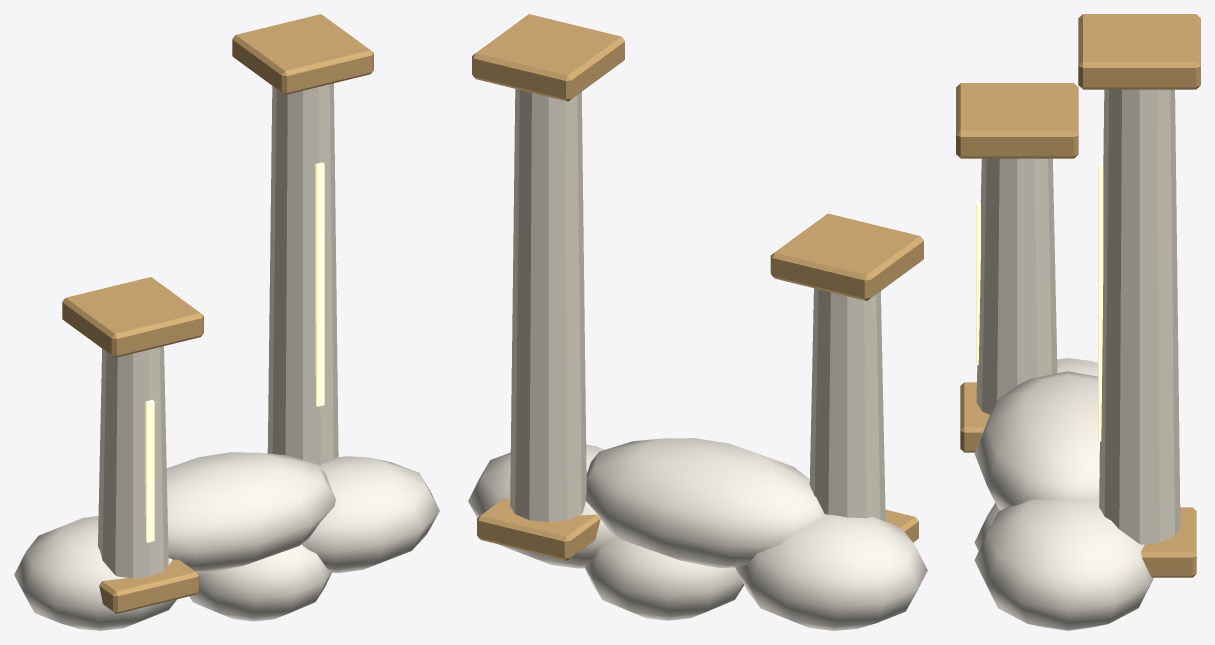
Rendered from div3_near_05_7m.glb.
3 views of the same model, side by side, from view 1: azimuth 30°, elevation 25°; view 2: azimuth 150°, elevation 25°; view 3: azimuth 270°, elevation 25° (orthographic). The views are drawn at different scales.
Parts seen in each view (by area): view 1: div3_near_05_7m__cloud-cream, div3_near_05_7m__porcelain-ivory, div3_near_05_7m__satin-honey-brass, div3_near_05_7m__warm-luminous; view 2: div3_near_05_7m__cloud-cream, div3_near_05_7m__porcelain-ivory, div3_near_05_7m__satin-honey-brass; view 3: div3_near_05_7m__porcelain-ivory, div3_near_05_7m__cloud-cream, div3_near_05_7m__satin-honey-brass, div3_near_05_7m__warm-luminous.
Part boxes in pixels (x1,y1,x2,y2): div3_near_05_7m__cloud-cream: (14, 452, 439, 630); div3_near_05_7m__porcelain-ivory: (98, 83, 338, 578); div3_near_05_7m__satin-honey-brass: (62, 14, 373, 613); div3_near_05_7m__warm-luminous: (145, 162, 324, 542); div3_near_05_7m__cloud-cream: (468, 438, 927, 630); div3_near_05_7m__porcelain-ivory: (510, 89, 885, 522); div3_near_05_7m__satin-honey-brass: (472, 14, 923, 560); div3_near_05_7m__porcelain-ivory: (976, 89, 1180, 544); div3_near_05_7m__cloud-cream: (974, 358, 1153, 630); div3_near_05_7m__satin-honey-brass: (956, 14, 1200, 577); div3_near_05_7m__warm-luminous: (976, 161, 1103, 441).
Bounding box in the file's own units: 5.29 × 6.52 × 2.4.
